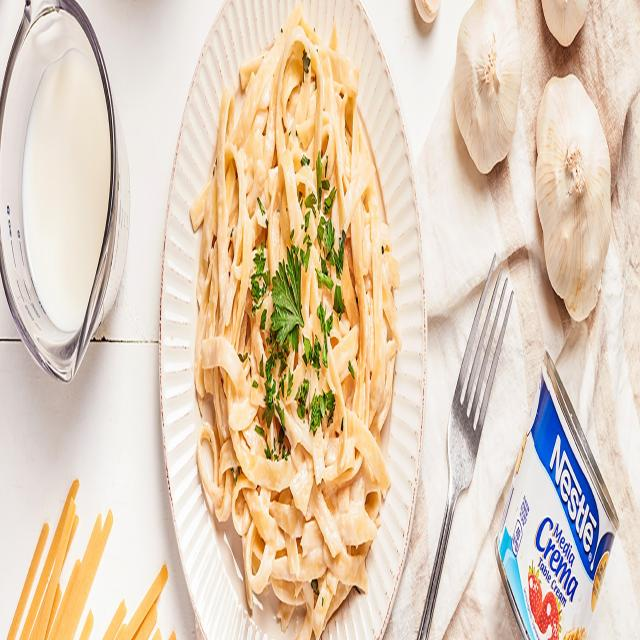pasta: (192, 11, 399, 622)
